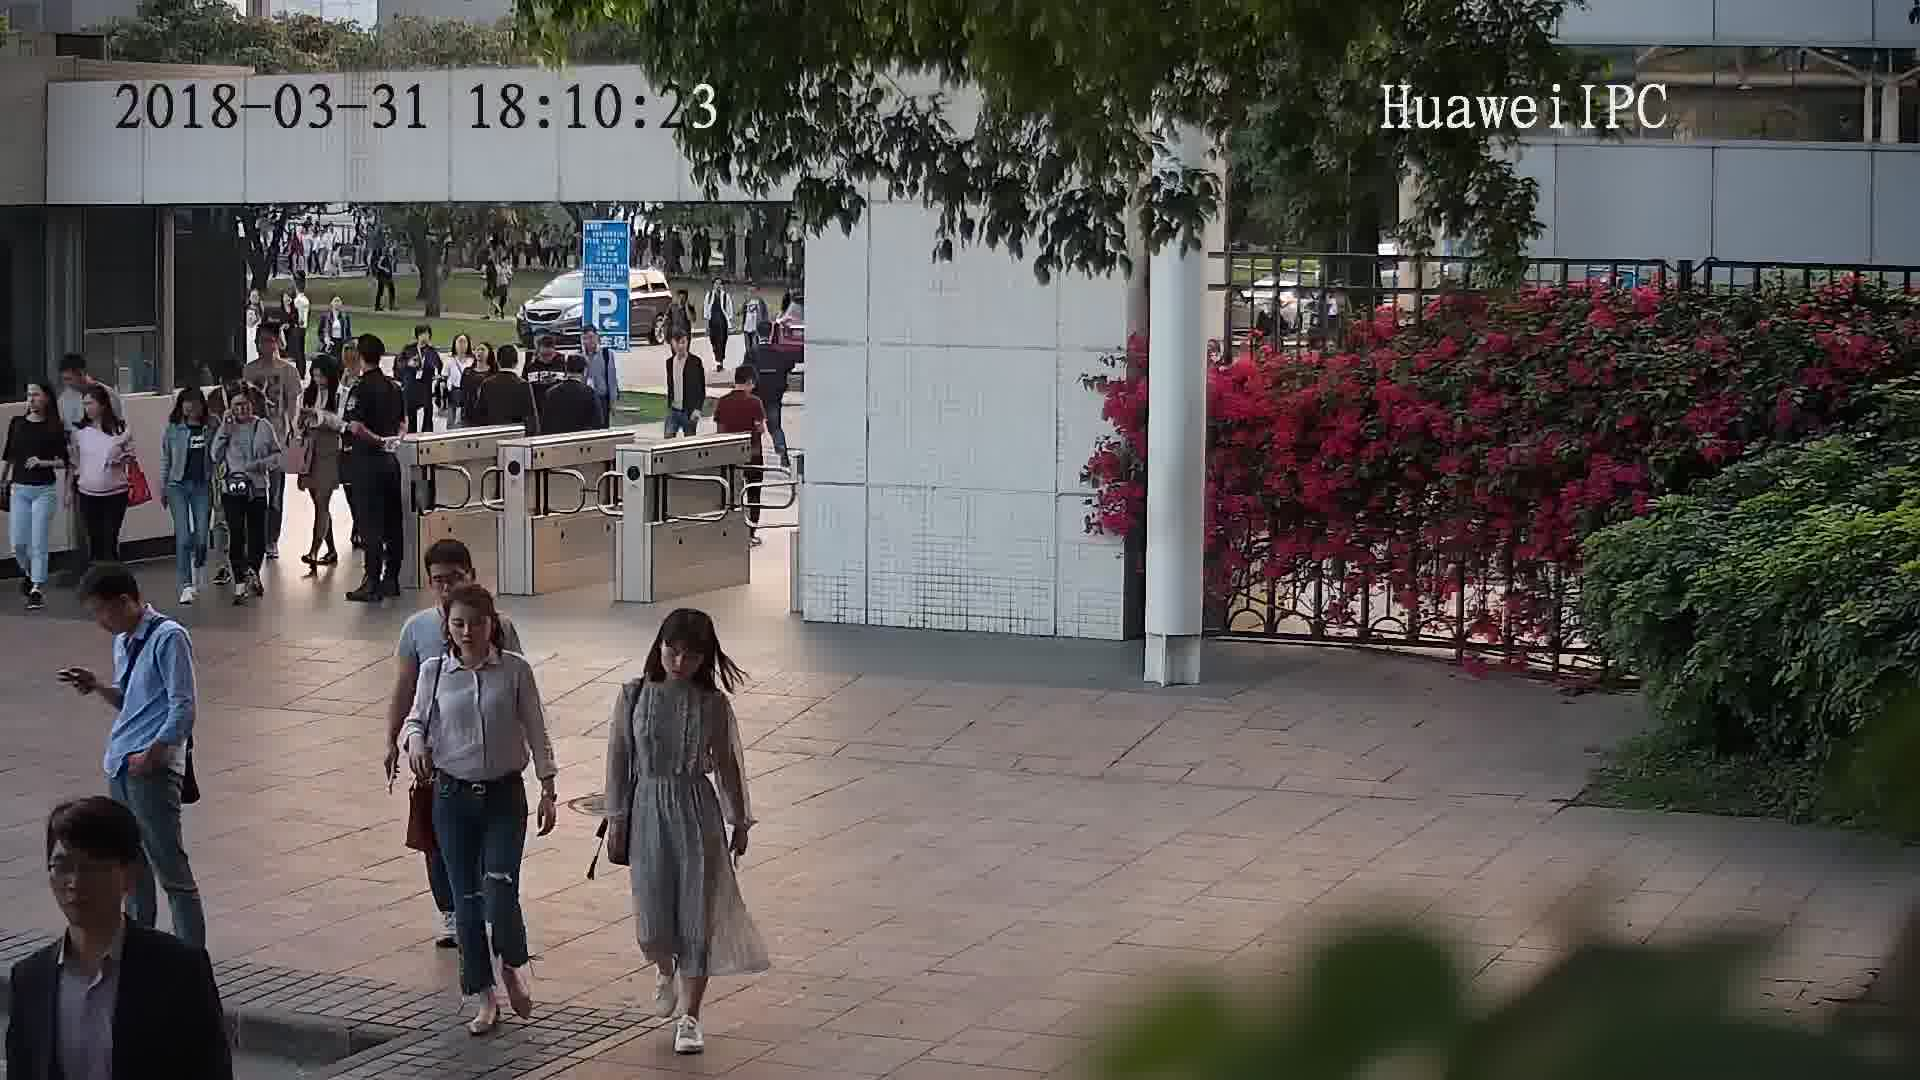face: (39, 834, 132, 926), (444, 602, 494, 652), (657, 633, 705, 681)
person: (6, 795, 211, 1008), (619, 602, 738, 714), (83, 565, 189, 664), (424, 589, 526, 685), (405, 535, 496, 640), (10, 376, 68, 437), (71, 383, 131, 441), (217, 383, 274, 441), (352, 335, 405, 397), (242, 319, 297, 376), (168, 381, 217, 440), (302, 354, 352, 407), (483, 343, 533, 395), (549, 352, 597, 403), (718, 362, 766, 412), (525, 333, 571, 379), (401, 321, 443, 368), (576, 320, 613, 370), (440, 334, 480, 375), (317, 289, 356, 326), (462, 340, 497, 379), (665, 327, 697, 364), (741, 280, 767, 308), (277, 287, 302, 318), (668, 283, 691, 315), (709, 267, 730, 297)
